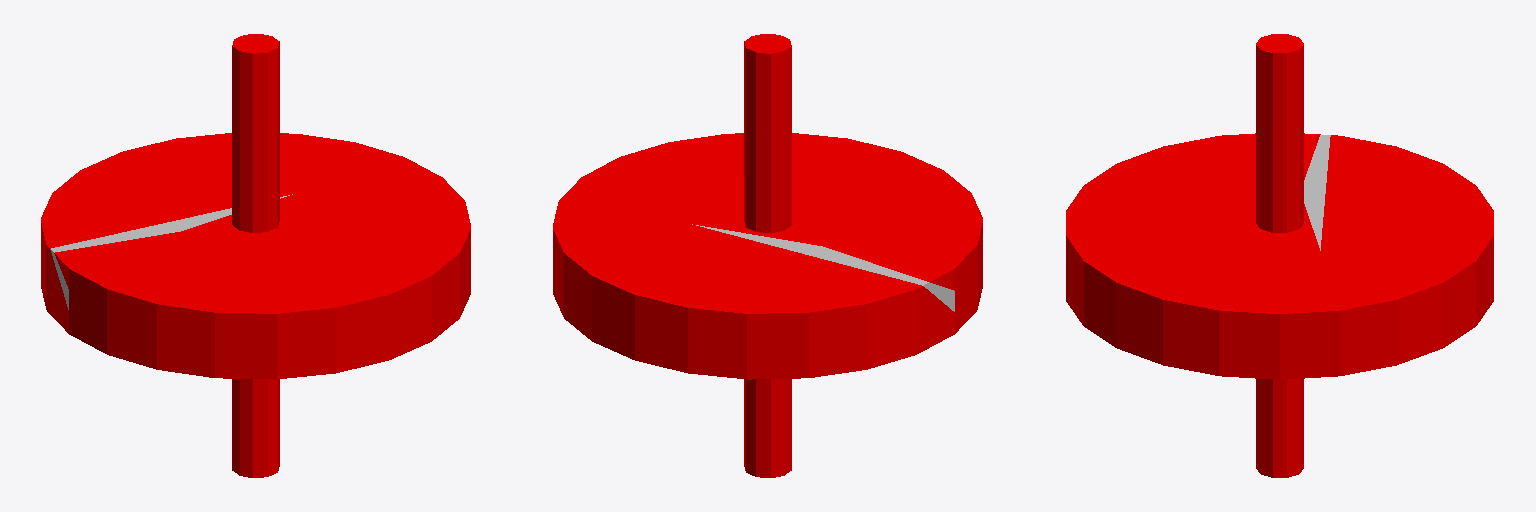
The picture shows the model from 3 angles: view 1: azimuth 30°, elevation 25°; view 2: azimuth 150°, elevation 25°; view 3: azimuth 270°, elevation 25°; orthographic projection.
Parts seen in each view (by area): view 1: gy1; view 2: gy1; view 3: gy1.
Part boxes in pixels (x1,y1,x2,y2): gy1: (41,34,470,477); gy1: (553,34,982,477); gy1: (1066,34,1493,477).
Size of the model in its own units: 35.73 by 38.8 by 35.36.